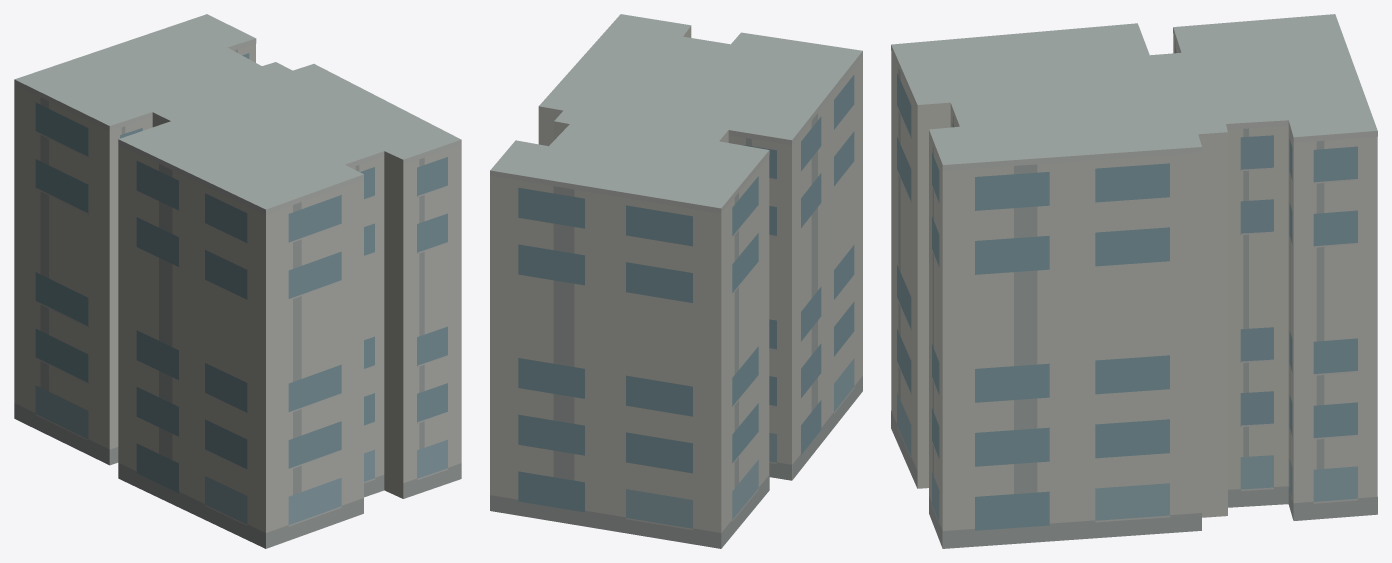
Rendered from survey-upis-32817509.glb.
3 views of the same model, side by side, from view 1: azimuth 30°, elevation 25°; view 2: azimuth 150°, elevation 25°; view 3: azimuth 270°, elevation 25° (orthographic). The views are drawn at different scales.
Visible parts, largest first — view 1: survey-upis-32817509.tmp; view 2: survey-upis-32817509.tmp; view 3: survey-upis-32817509.tmp.
Boxes of the visible parts, <box> form: survey-upis-32817509.tmp: <box>14,14,461,548</box>; survey-upis-32817509.tmp: <box>490,14,862,548</box>; survey-upis-32817509.tmp: <box>891,14,1377,548</box>.
Size of the model in its own units: 13.56 by 16.05 by 18.46.
